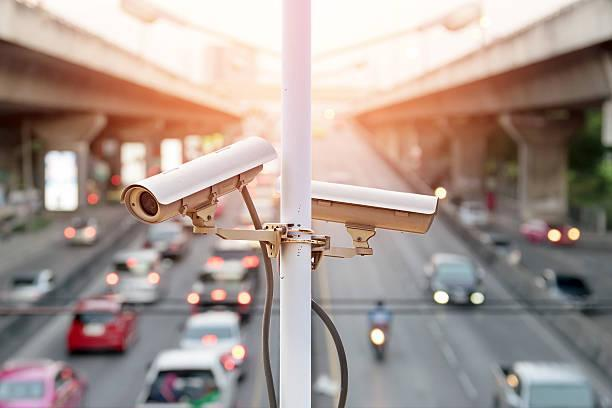camera: (228, 134, 473, 290), (108, 128, 292, 243)
